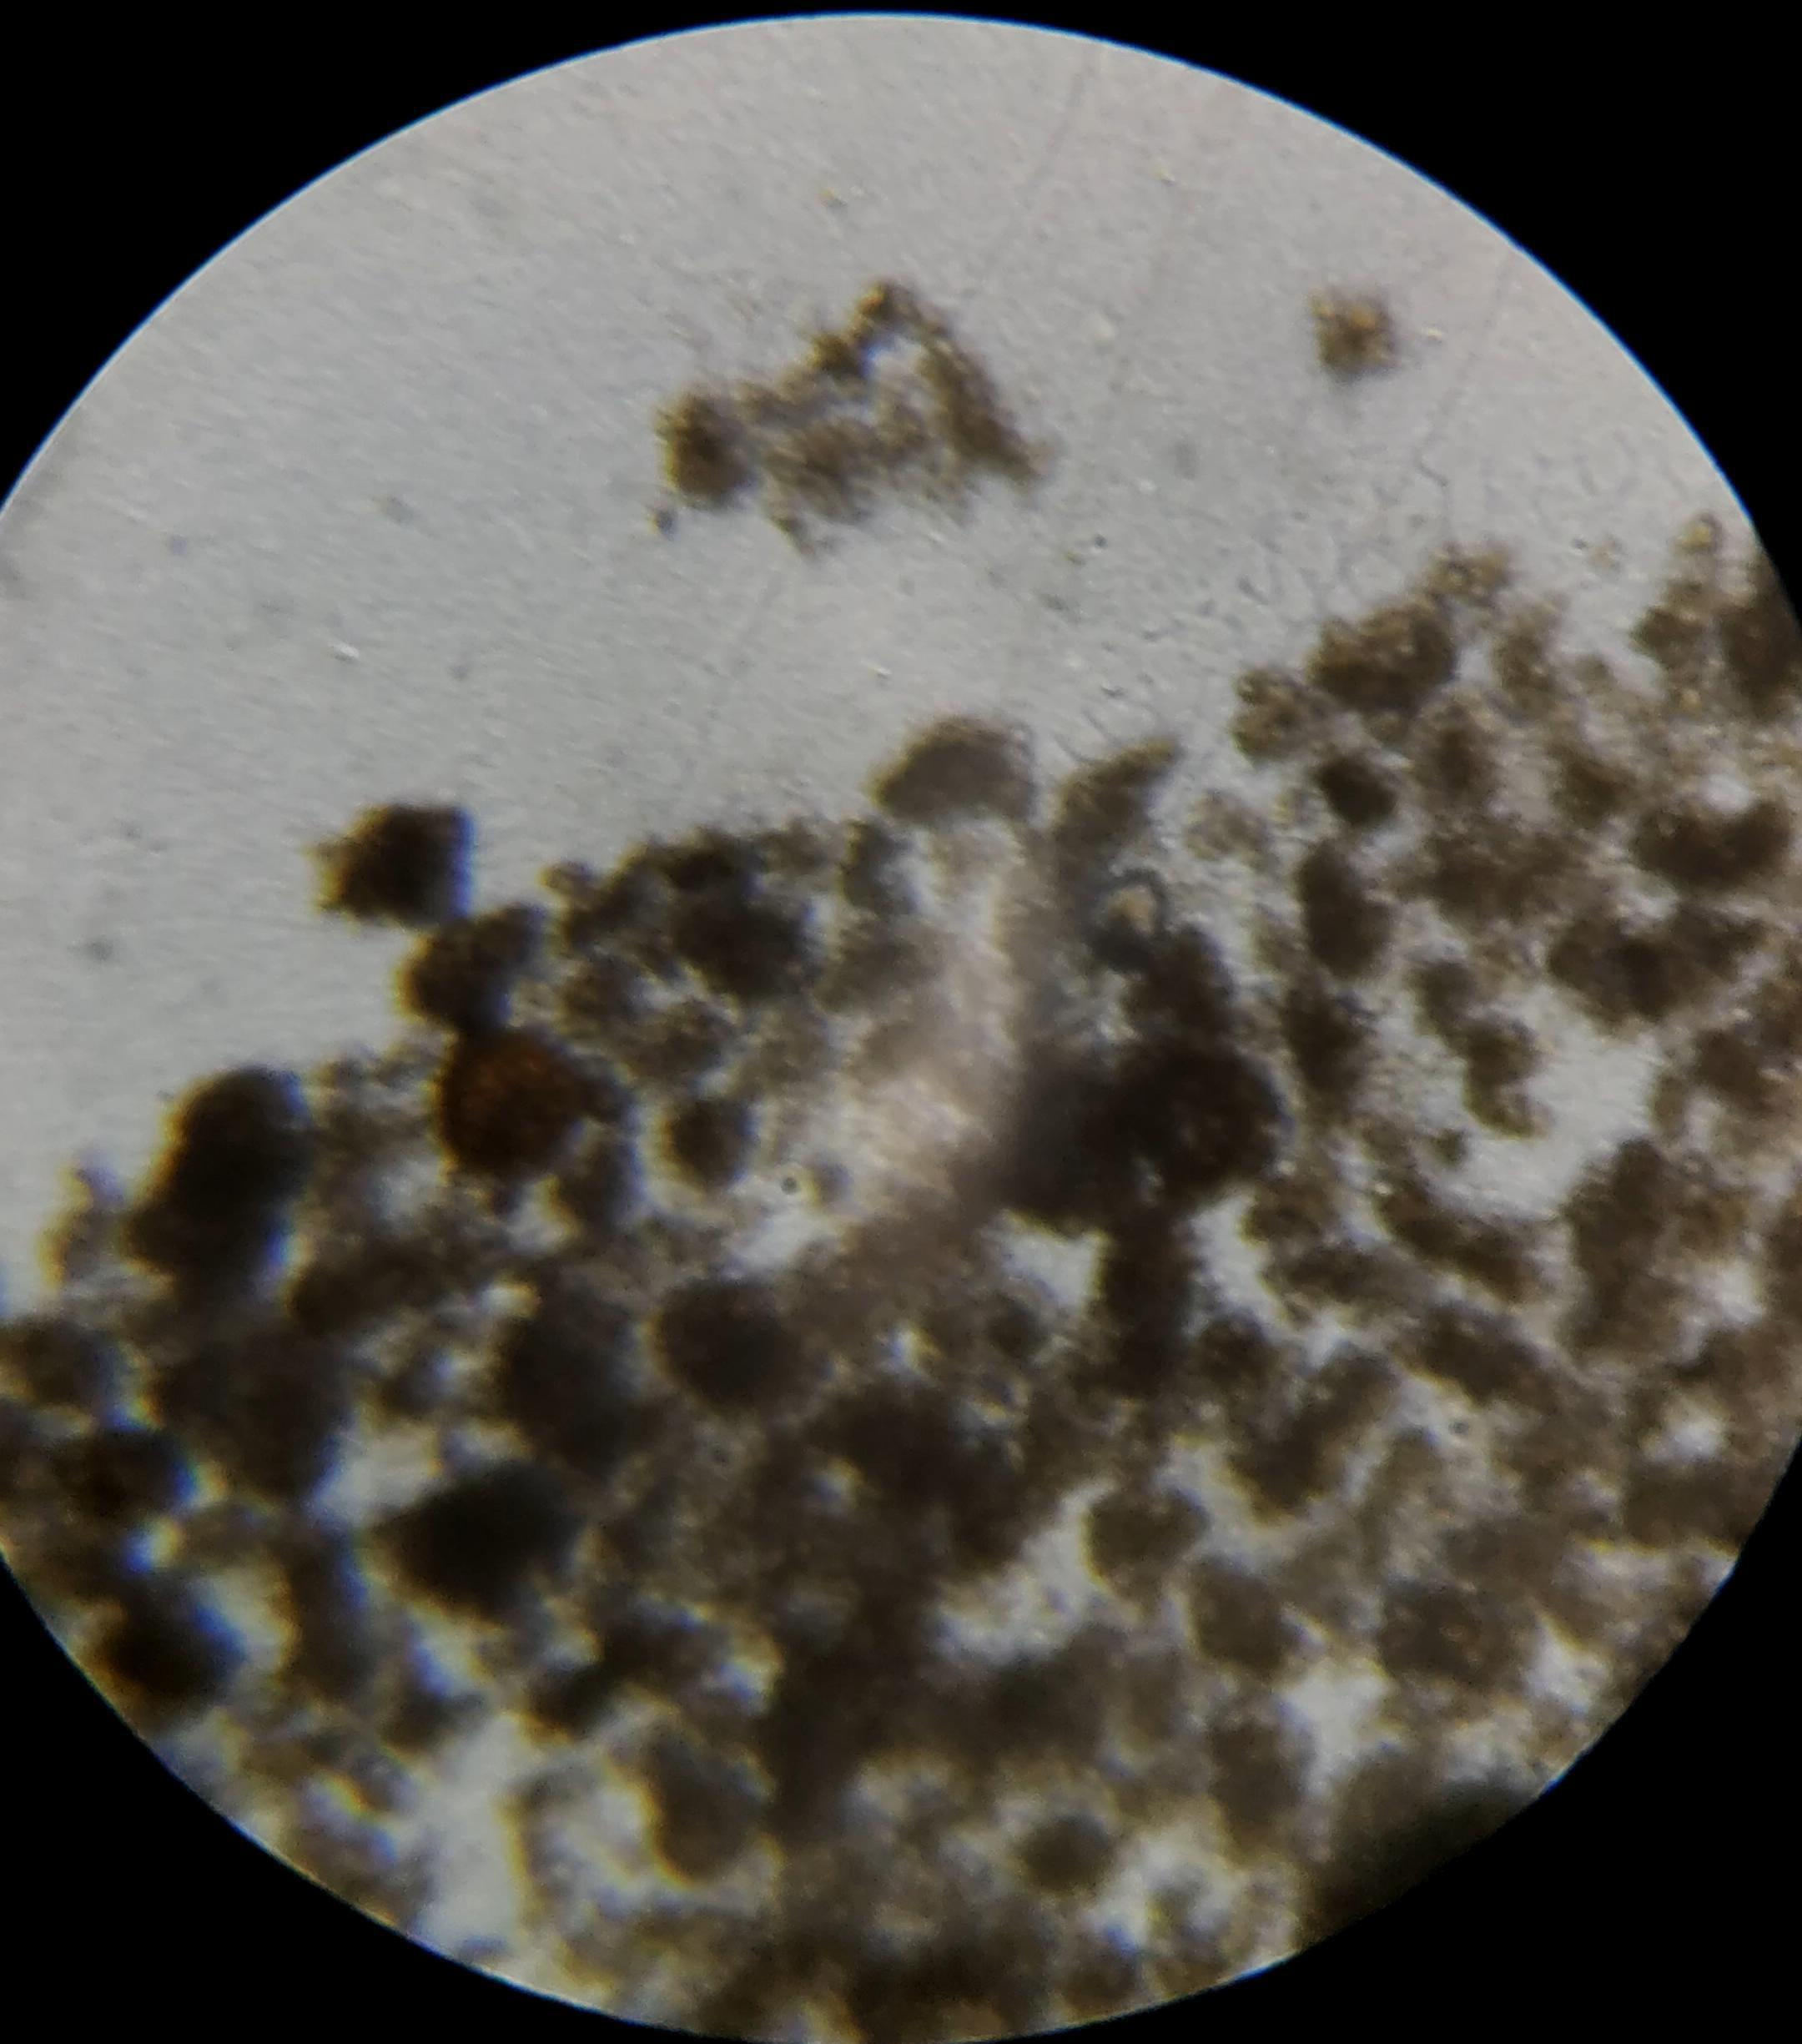Arcella: (444, 1033, 581, 1167)
